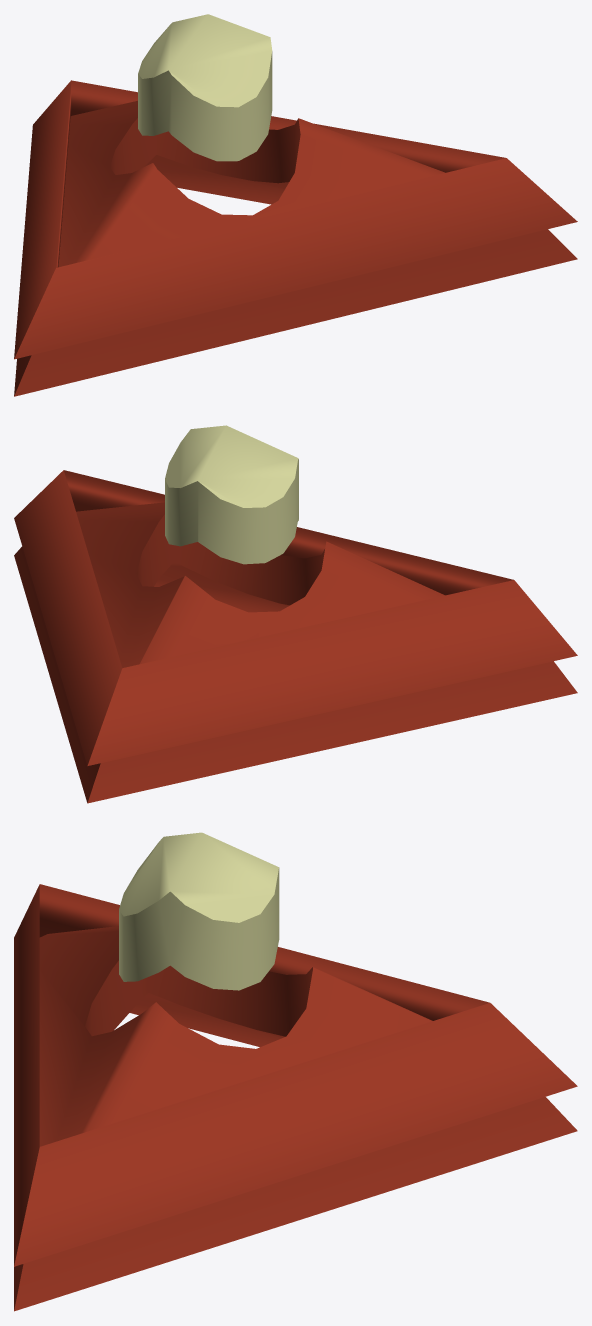
Rendered from glowstone_small.FBX.
3 views of the same model, one above another, from view 1: azimuth 30°, elevation 25°; view 2: azimuth 150°, elevation 25°; view 3: azimuth 270°, elevation 25° (orthographic). The views are drawn at different scales.
Visible parts, largest first — view 1: Prism001, asd; view 2: Prism001, asd; view 3: Prism001, asd.
Part boxes in pixels (x1,y1,x2,y2): Prism001: (14,80,577,396); asd: (138,14,272,161); Prism001: (14,470,577,803); asd: (165,425,298,564); Prism001: (14,884,577,1311); asd: (119,832,279,990).
Bounding box in the file's own units: 0.5284 × 0.2315 × 0.3827.
